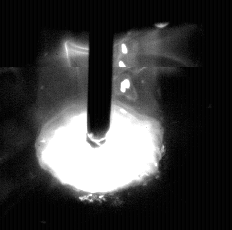arame: (88, 0, 111, 139)
poca: (34, 0, 164, 230)
